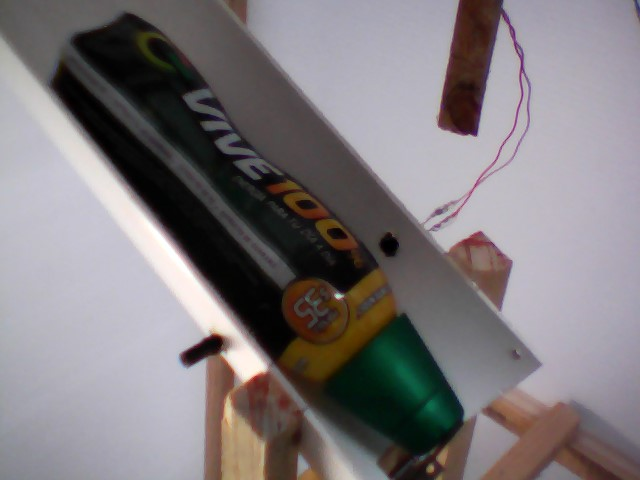plastico: (43, 5, 475, 457)
